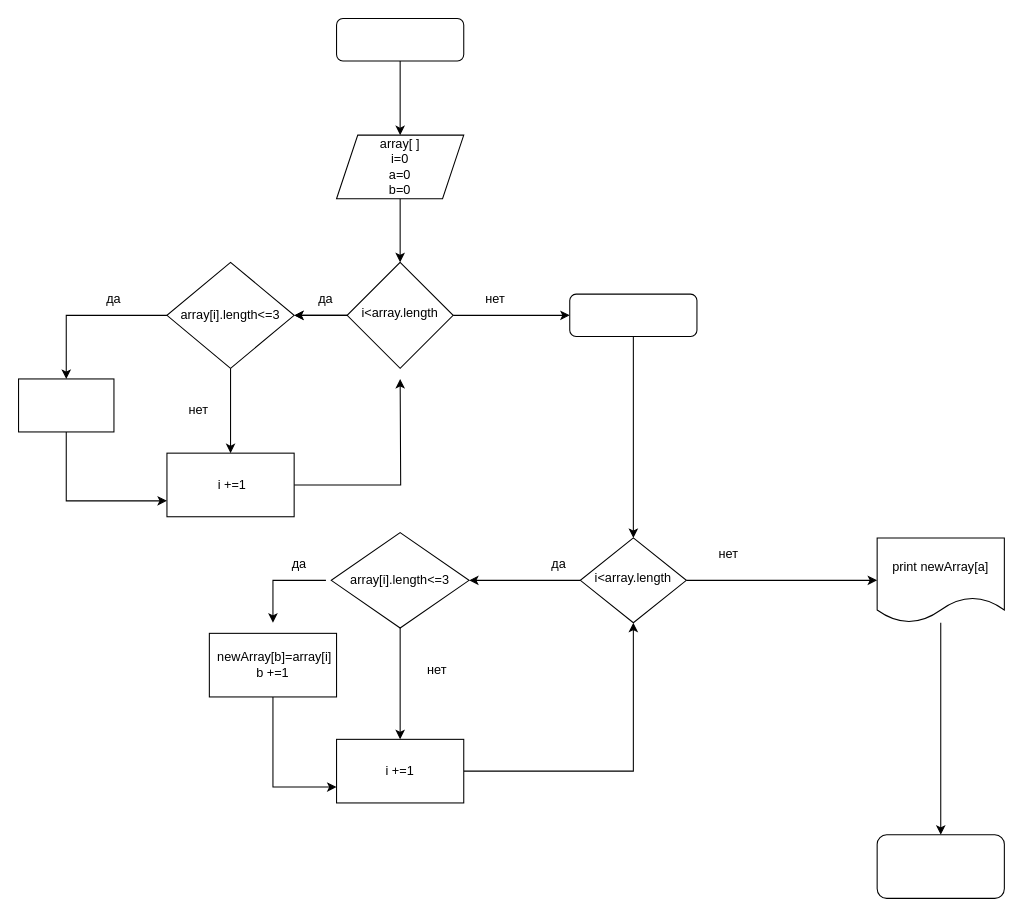
Image size: 1023x917. Some labels were removed from this diagram. Here are the shapes that lost their labels. From the top down, the centre of each, then its label:
At (399,39): "Start".
At (633,315): "new Array[a} i=0".
At (65,405): "a +=1".
At (940,866): "End".
